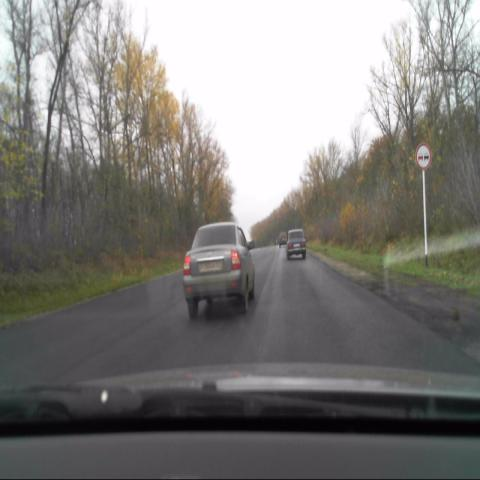3_20: (414, 142, 430, 170)
